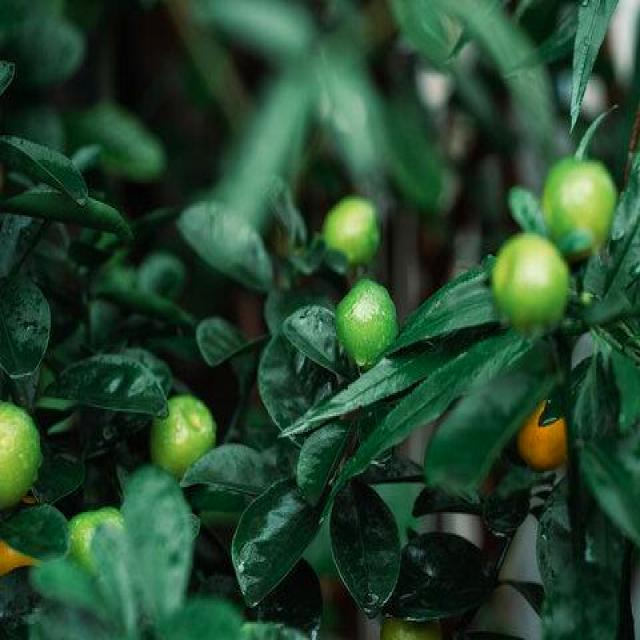Jeruk Belum Matang: (545, 160, 620, 260), (494, 236, 566, 332), (338, 281, 401, 368), (151, 396, 217, 479), (0, 400, 44, 514)
Jeruk Sudah Matang: (522, 400, 570, 470)
